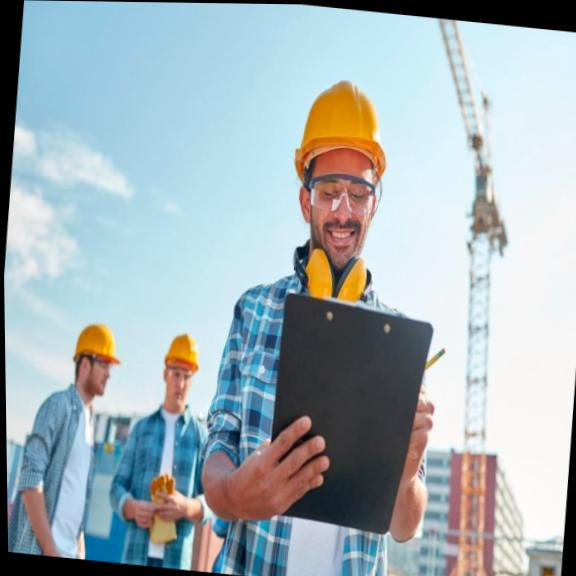no_safety_vest: (15, 383, 104, 560), (114, 402, 196, 570)
